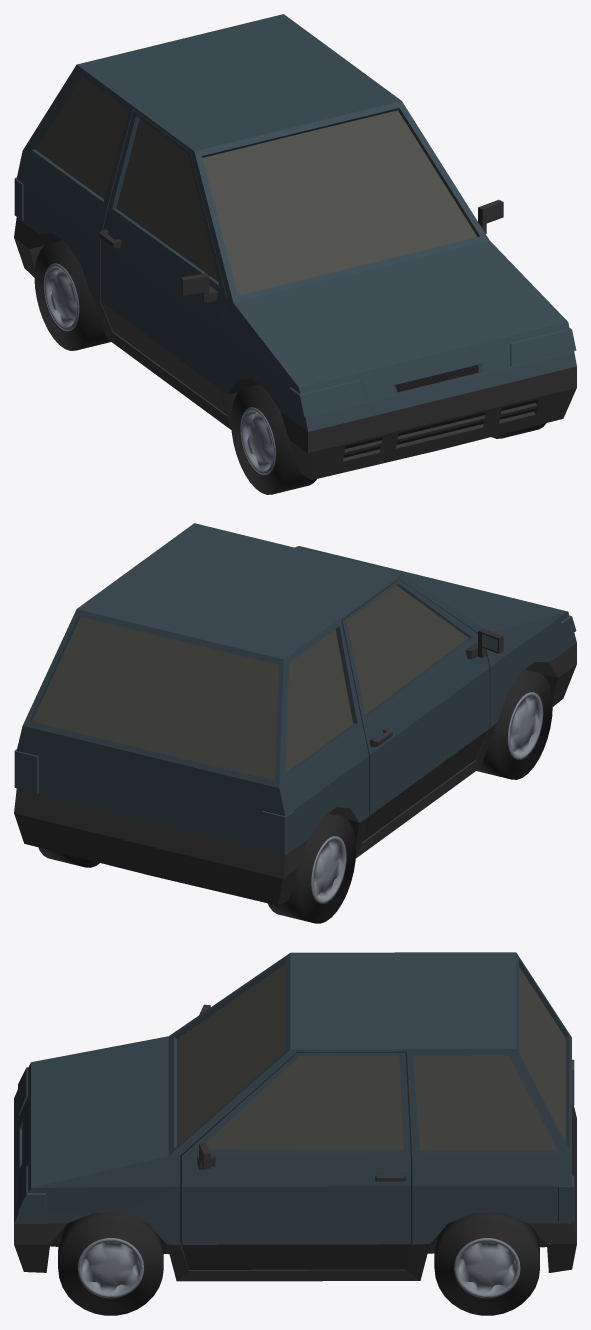
The model's file is car.glb.
3 renders of one model, top to bottom at view 1: azimuth 30°, elevation 25°; view 2: azimuth 150°, elevation 25°; view 3: azimuth 270°, elevation 25°, orthographic. The views are drawn at different scales.
Visible parts, largest first — view 1: car body, windows, door r, win door r.001, wheel fr, wheel br; view 2: car body, windows, door r, win door r.001, wheel br, wheel fr; view 3: car body, door l, windows, win door l.001, wheel bl, wheel fl.
Part boxes in pixels (bbox=[...]): car body: bbox=[14, 14, 576, 480]; windows: bbox=[36, 76, 477, 295]; door r: bbox=[99, 110, 227, 414]; win door r.001: bbox=[116, 119, 218, 281]; wheel fr: bbox=[231, 384, 316, 494]; wheel br: bbox=[34, 240, 110, 350]; car body: bbox=[14, 523, 576, 905]; windows: bbox=[32, 617, 352, 780]; door r: bbox=[341, 579, 503, 841]; win door r.001: bbox=[346, 585, 468, 714]; wheel br: bbox=[268, 813, 356, 923]; wheel fr: bbox=[476, 669, 552, 779]; car body: bbox=[14, 952, 576, 1281]; door l: bbox=[180, 1052, 412, 1269]; windows: bbox=[177, 964, 565, 1150]; win door l.001: bbox=[206, 1055, 403, 1149]; wheel bl: bbox=[434, 1213, 539, 1315]; wheel fl: bbox=[58, 1213, 163, 1315].
Size of the model in its own units: 2.18 by 1.71 by 3.46.
Materials: 2 (2 with a texture image).
